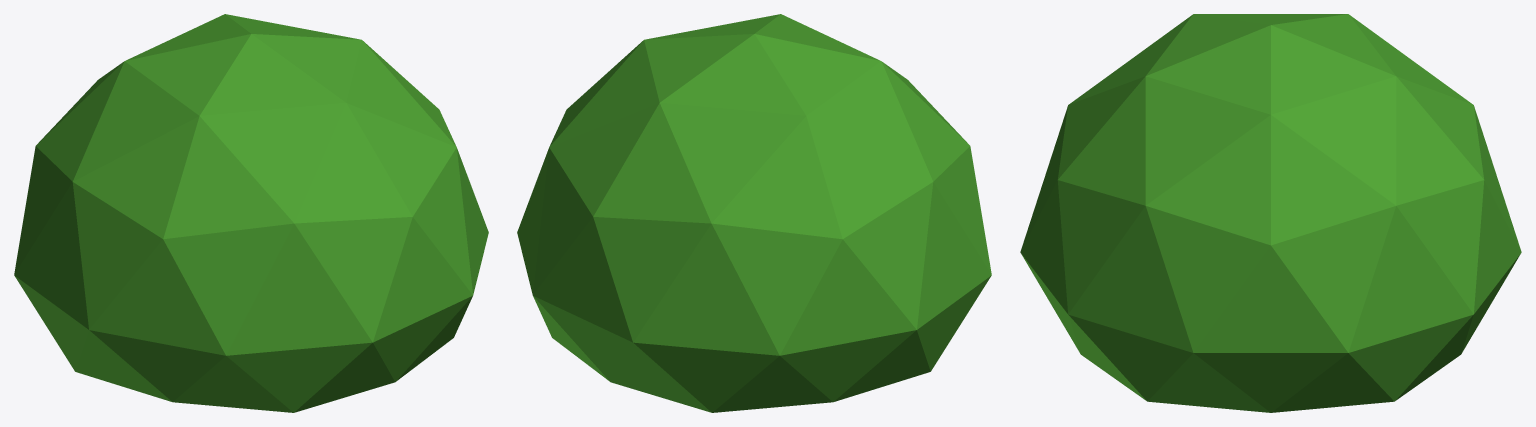
The model's file is ENV_Bush02_Placeholder.fbx.
3 renders of one model, left to right at view 1: azimuth 30°, elevation 25°; view 2: azimuth 150°, elevation 25°; view 3: azimuth 270°, elevation 25°, orthographic. The views are drawn at different scales.
Parts seen in each view (by area): view 1: Icosphere; view 2: Icosphere; view 3: Icosphere.
Boxes of the visible parts, left/top/right/bottom form: Icosphere: left=14, top=14, right=488, bottom=412; Icosphere: left=517, top=14, right=991, bottom=412; Icosphere: left=1020, top=14, right=1521, bottom=412.
Bounding box in the file's own units: 200 × 190 × 134.
